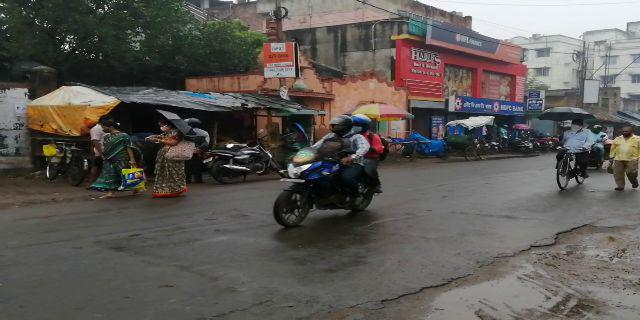Cycle: (553, 116, 589, 194)
Motorbike: (259, 115, 386, 223)
